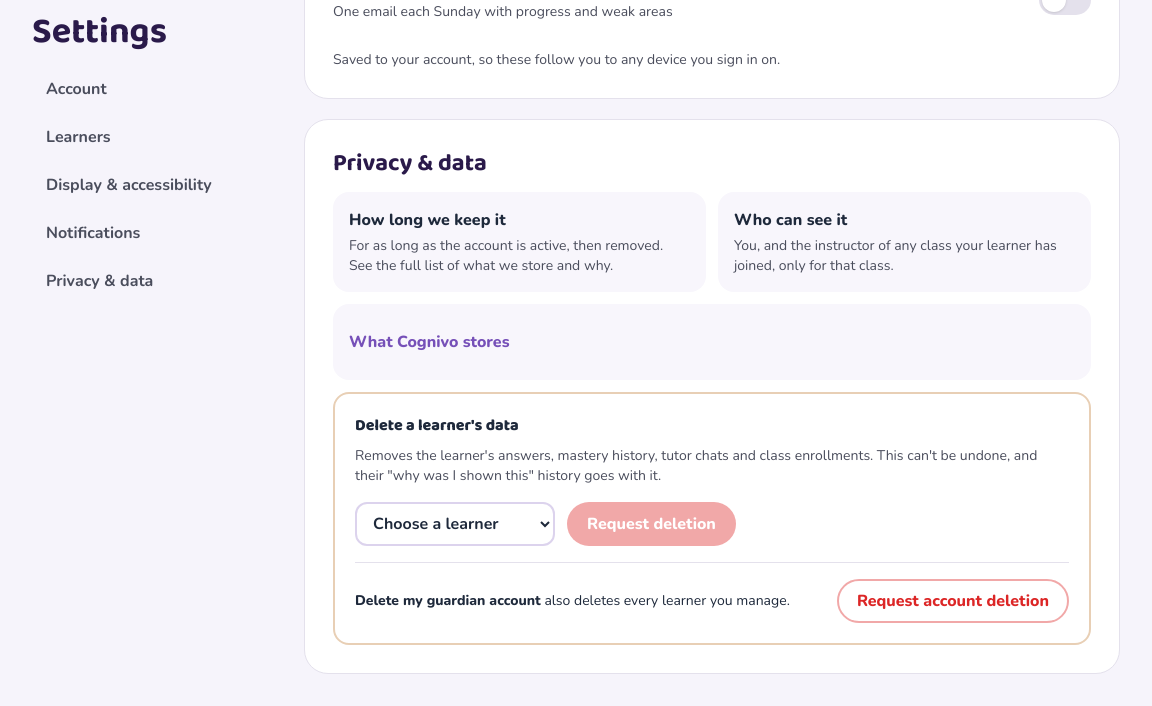
Test case: GuardianSettingsPage › submits a guardian account-deletion request targeting the guardian's own id
The width and height of the screenshot is (1152, 706).
(page scrolled)
Click the button "Request account deletion" at coordinates (953, 601), box [837, 579, 1069, 623]
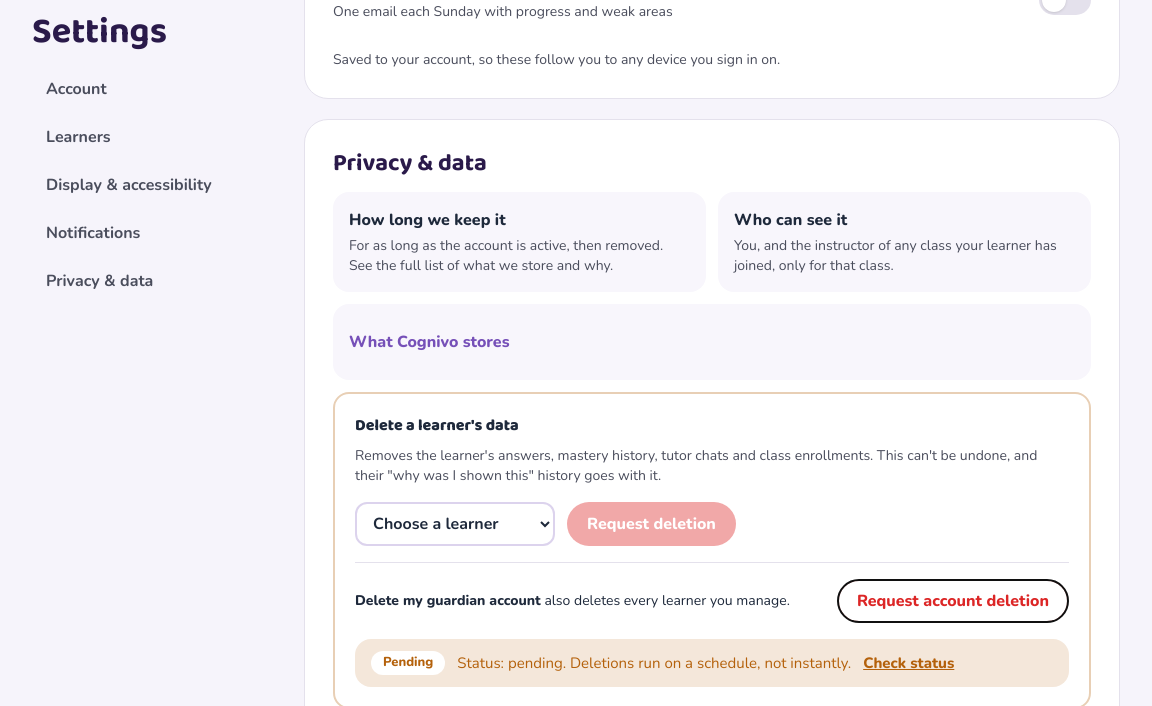
Expected: the text "Status: pending. Deletions run on a schedule, not instantly." is shown, [457, 652, 851, 674]
